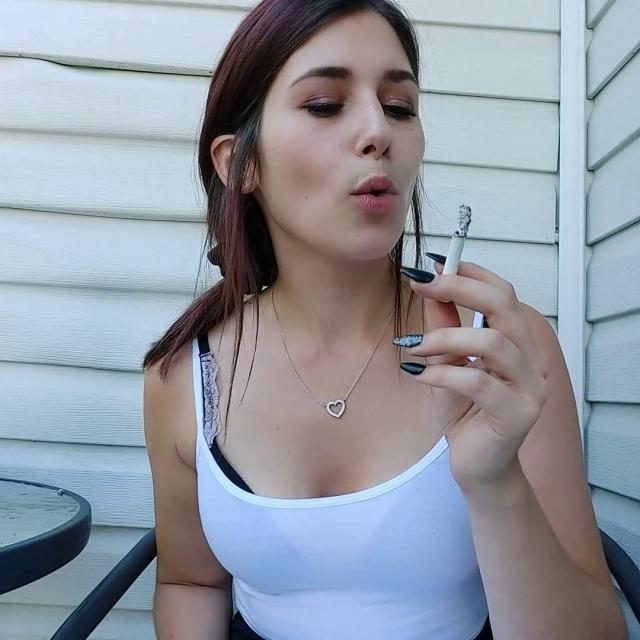Cigarette: (441, 205, 472, 278)
Hand: (392, 251, 551, 495)
Mouth: (345, 170, 401, 218)
